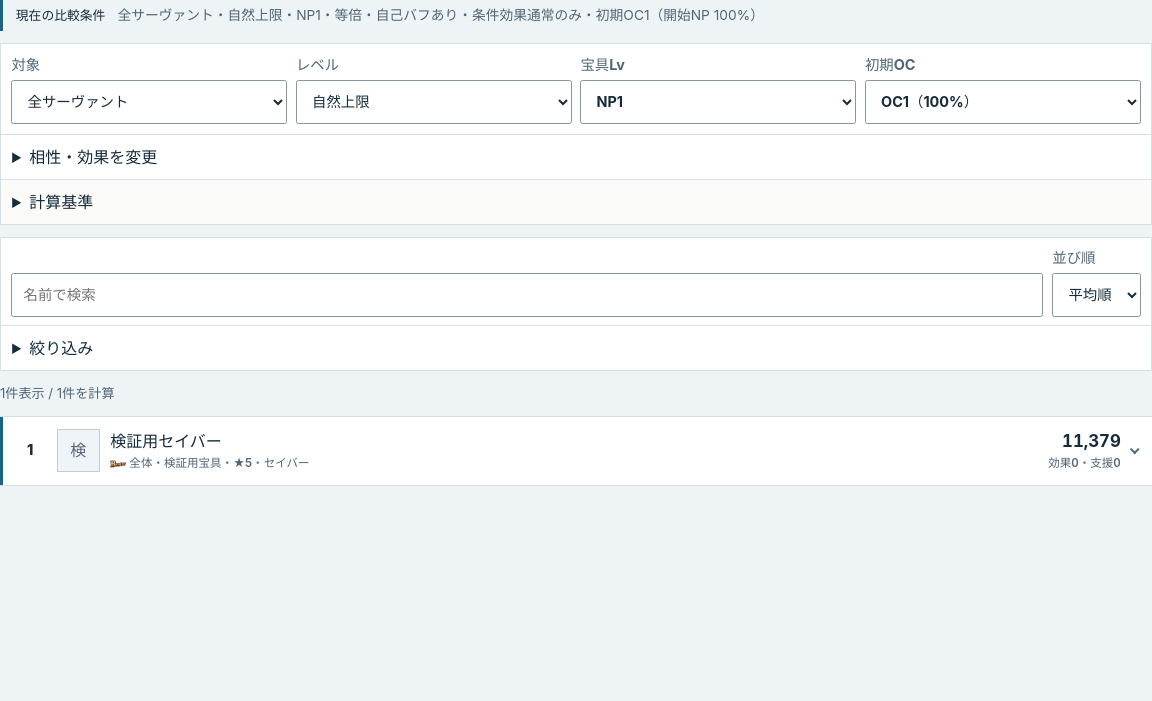
Test case: current and stale ranking handoff publication › shows a durable failure for the calculated detail without publishing workspace, session or route
Click the button with aria-label "の計算詳細を開く".
click(78, 451)  # box [3,417,1151,485]
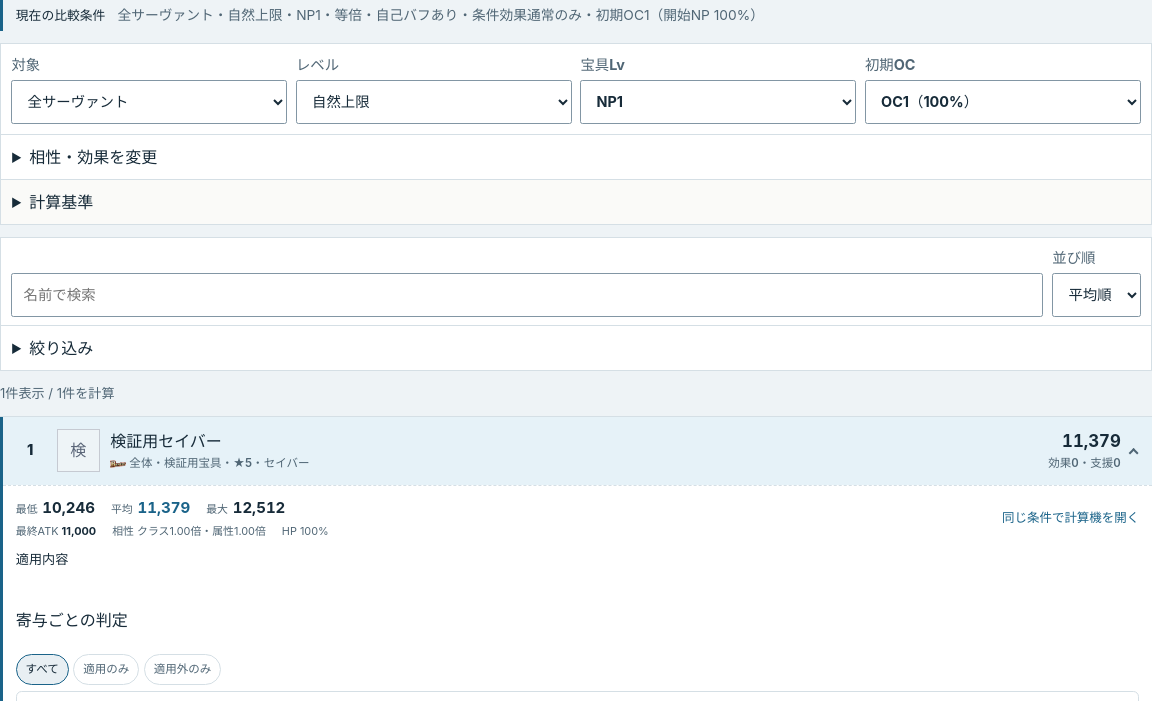
Click the button "同じ条件で計算機を開く".
click(1071, 518)  # box [1002,502,1139,534]
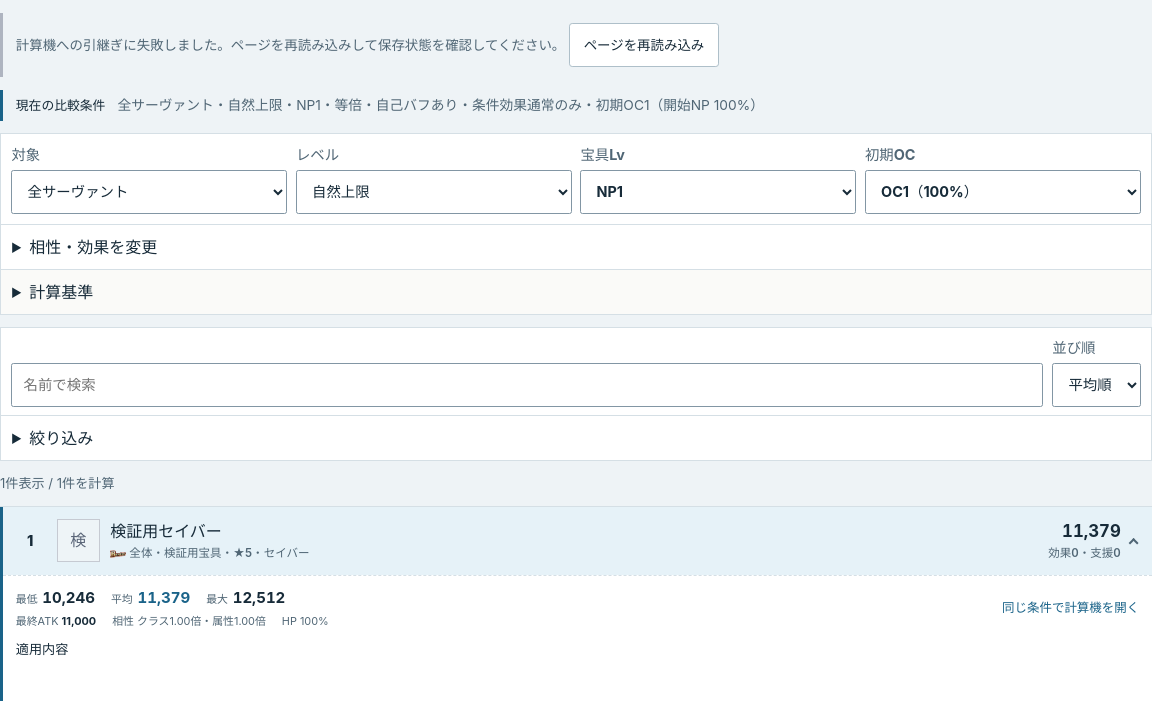
Expected: the message "計算機への引継ぎに失敗しました。ページを再読み込みして保存状態を確認してください。 ページを再読み込み" is shown, [0,13,1151,77]
